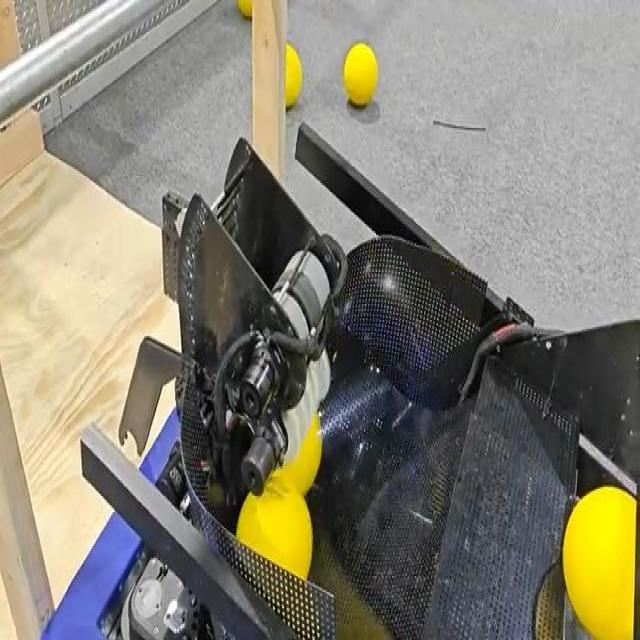Fuel: (562, 487, 635, 638), (563, 485, 635, 637), (236, 478, 312, 583), (236, 478, 312, 578), (274, 412, 322, 494), (276, 416, 324, 495), (343, 43, 377, 105), (285, 42, 302, 106), (237, 0, 251, 18)
